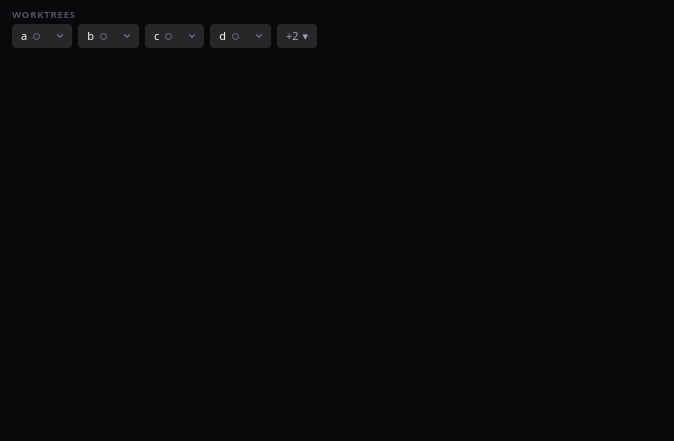
WorktreeActionsGroup › shows 4 worktrees and puts the rest behind +N; a pick joins the bar with its menu open
Expected: the number of elements with test id "worktree-action-button" is 4, [12, 24, 72, 48]; [78, 24, 139, 48]; [145, 24, 204, 48]; [210, 24, 271, 48]
Click the button named "2 autres worktrees".
click(297, 36)  # box [277, 24, 317, 48]
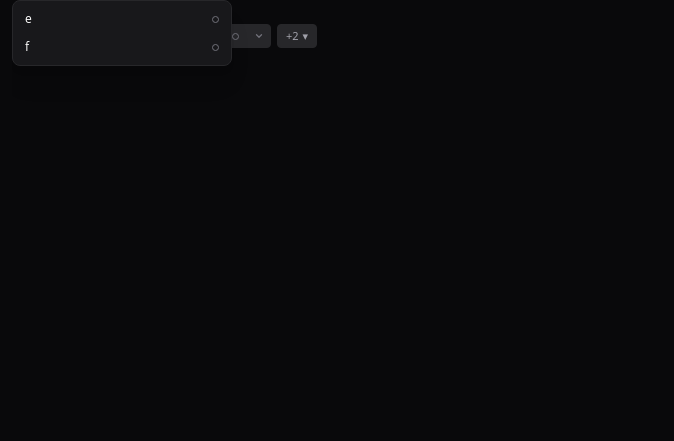
Click the menu item "f".
click(122, 47)  # box [13, 33, 231, 61]
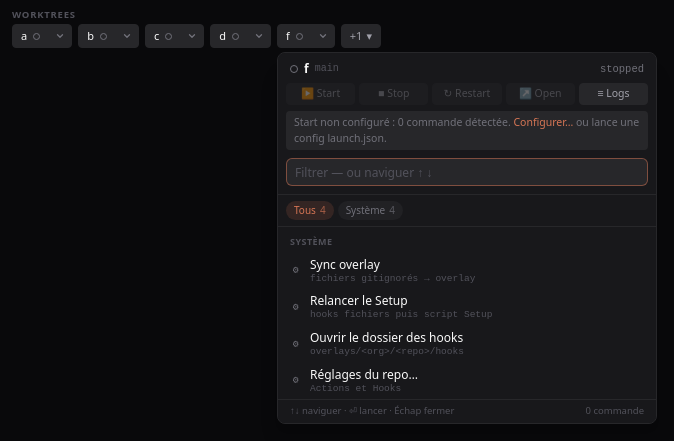
Now the number of elements with test id "worktree-action-button" is 5, box [12, 24, 72, 48]; [78, 24, 139, 48]; [145, 24, 204, 48]; [210, 24, 271, 48]; [277, 24, 335, 48]
Now the menu with test id "worktree-action-menu" is shown, box [277, 52, 657, 424]
